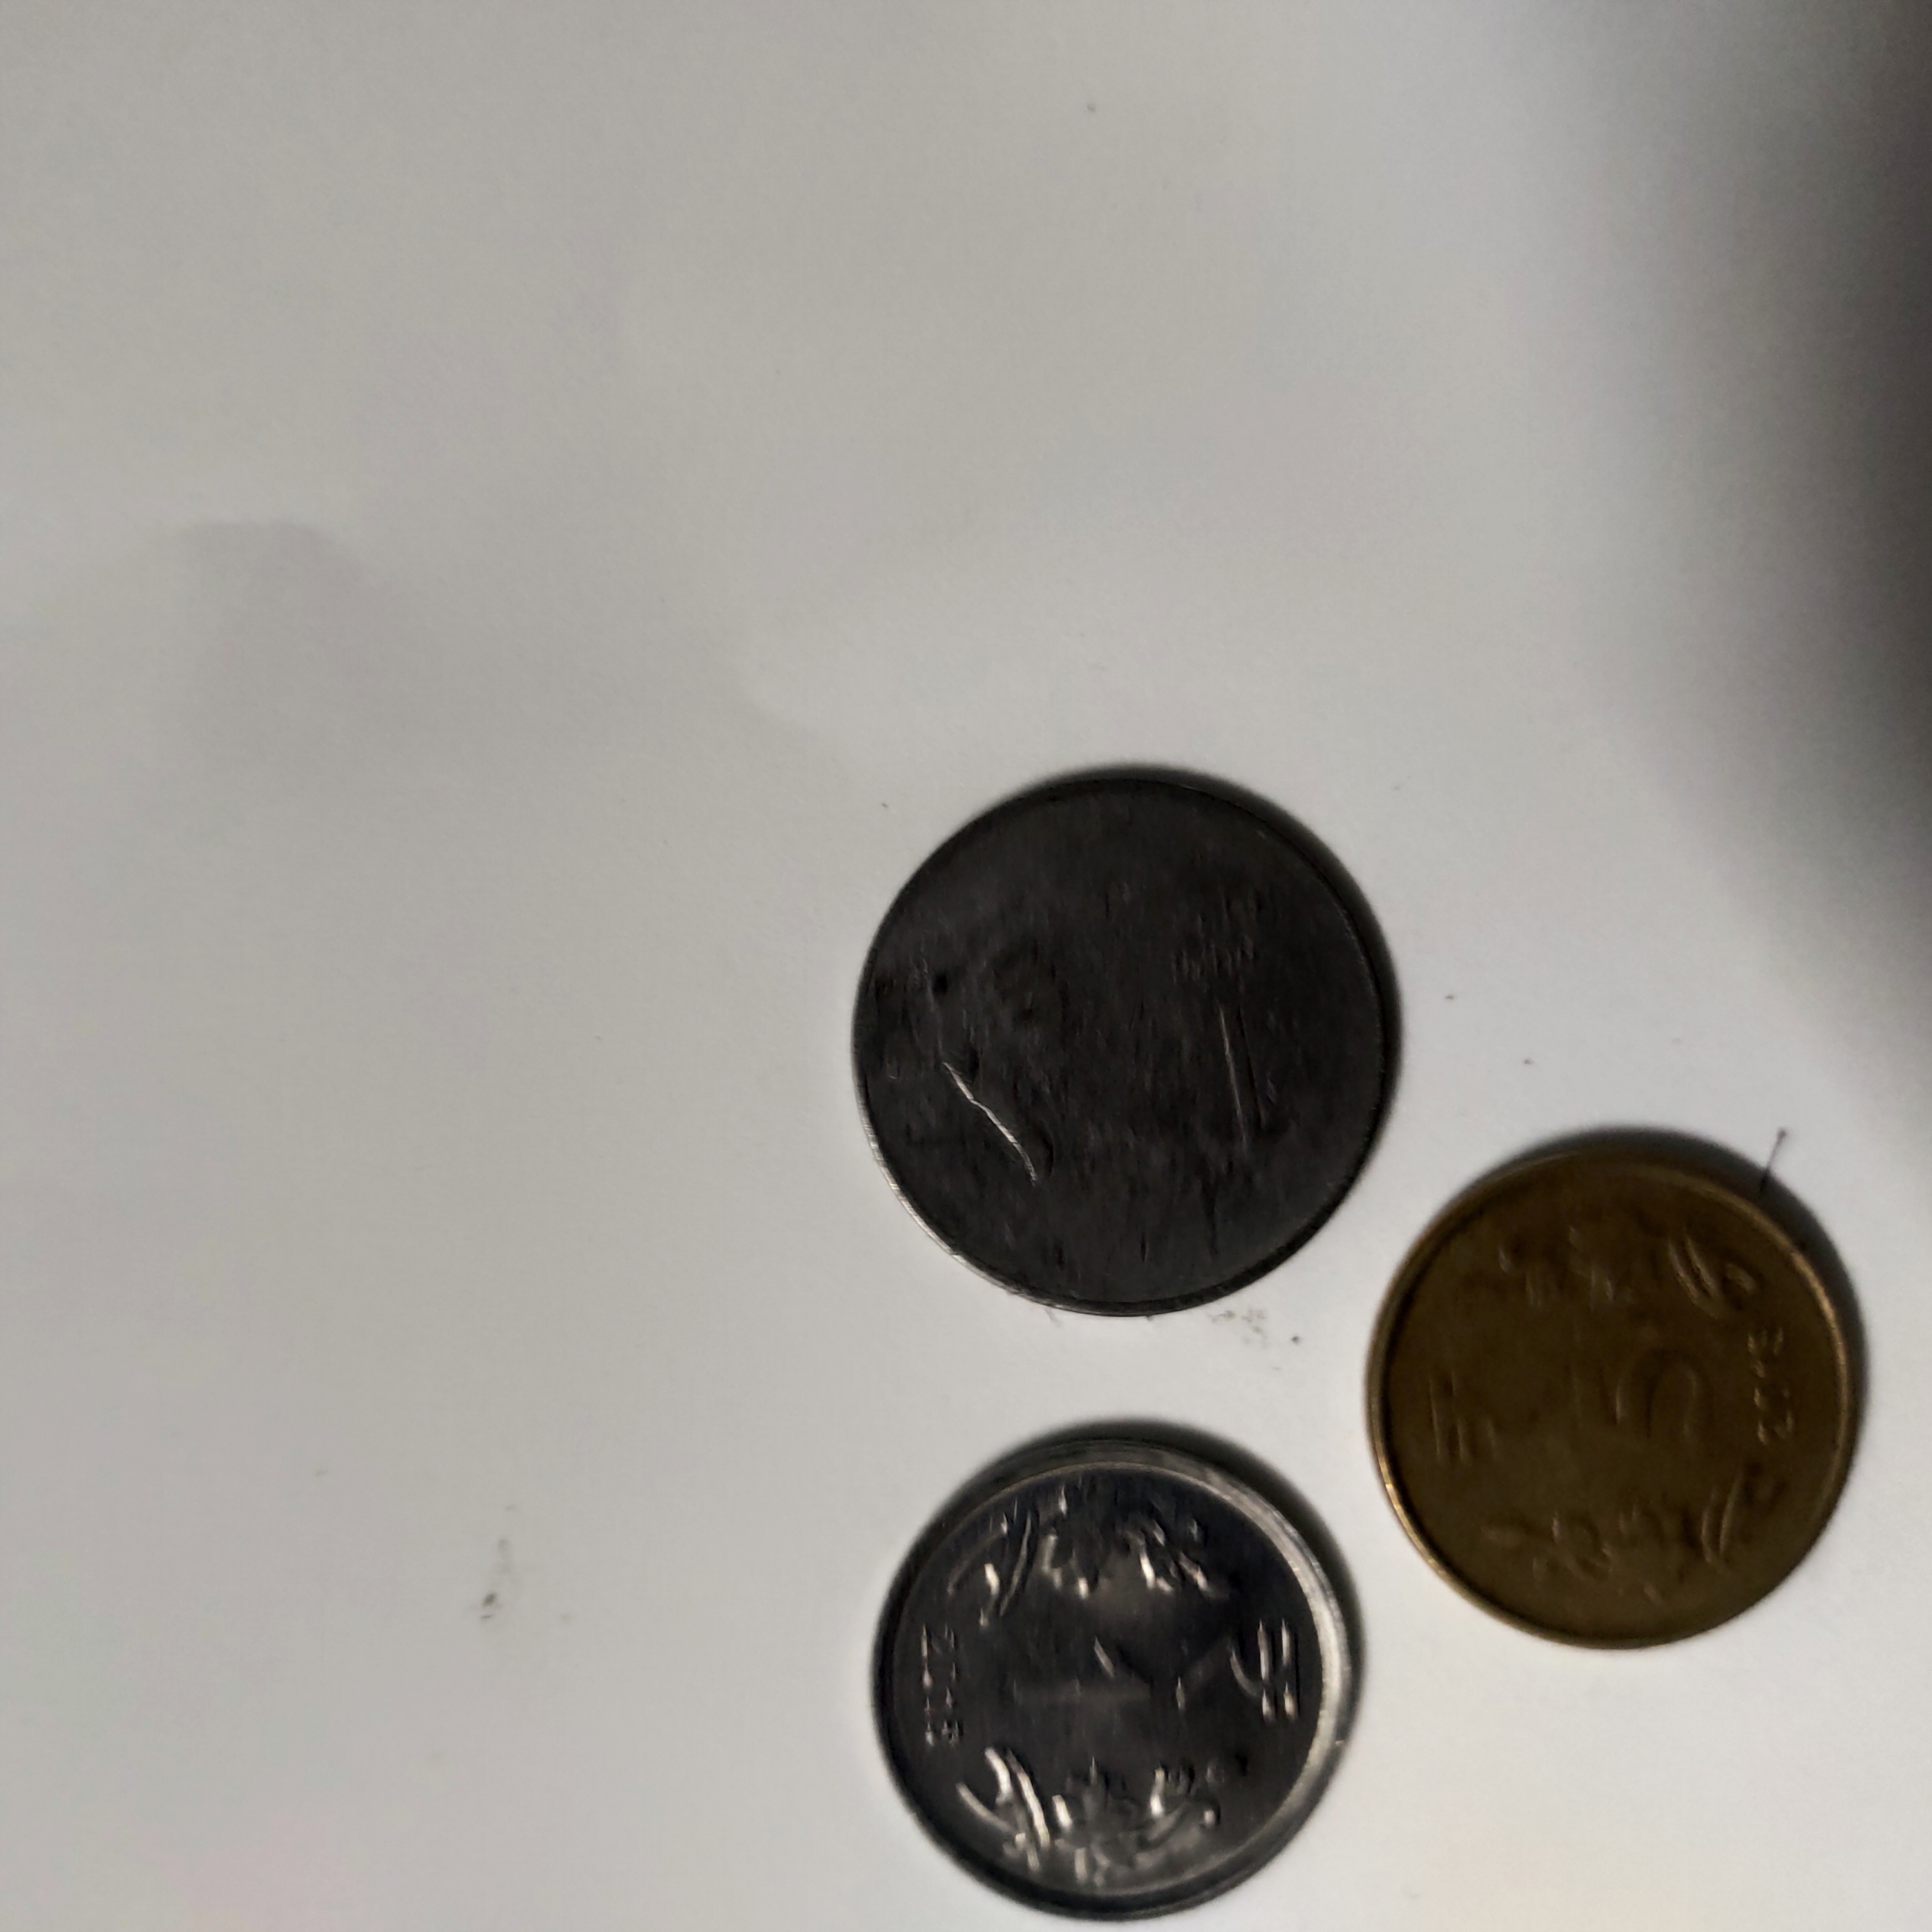coin: (782, 743, 1470, 1333), (724, 1372, 1396, 1932), (1343, 1115, 1924, 1665)
